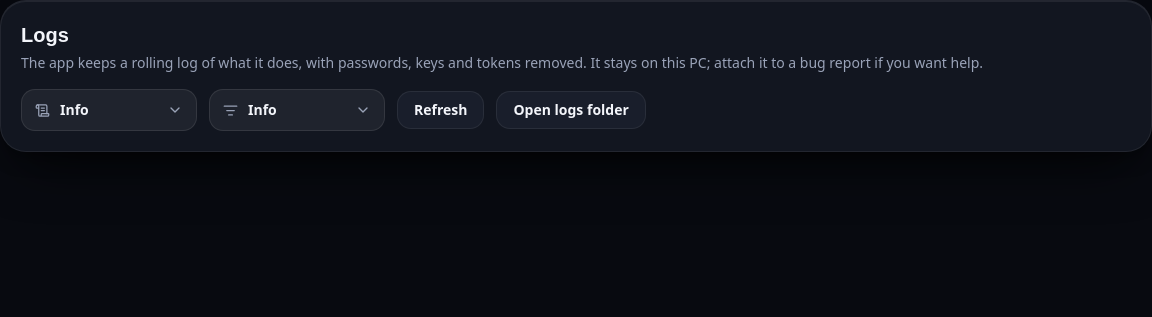
Test: LogsCard › shows an alert when the logs folder cannot be opened
Click the button "Open logs folder": {"x": 571, "y": 110} 496,91 -> 646,129
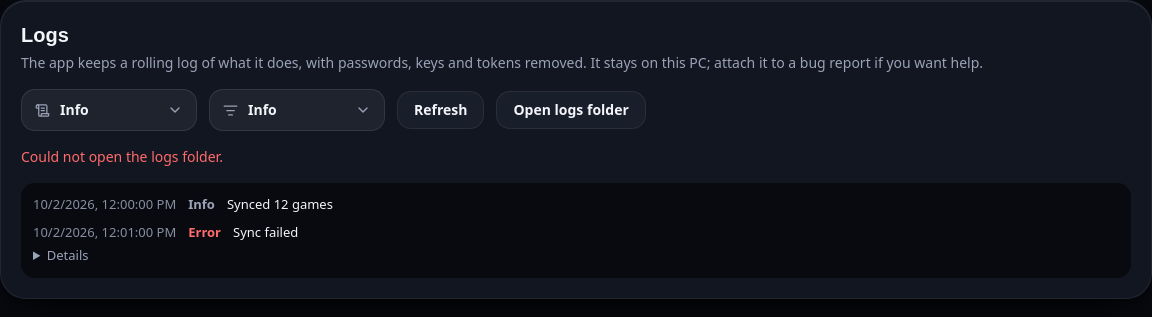
Now the message reads "Could not open the logs folder.", box 21,147 -> 223,166
